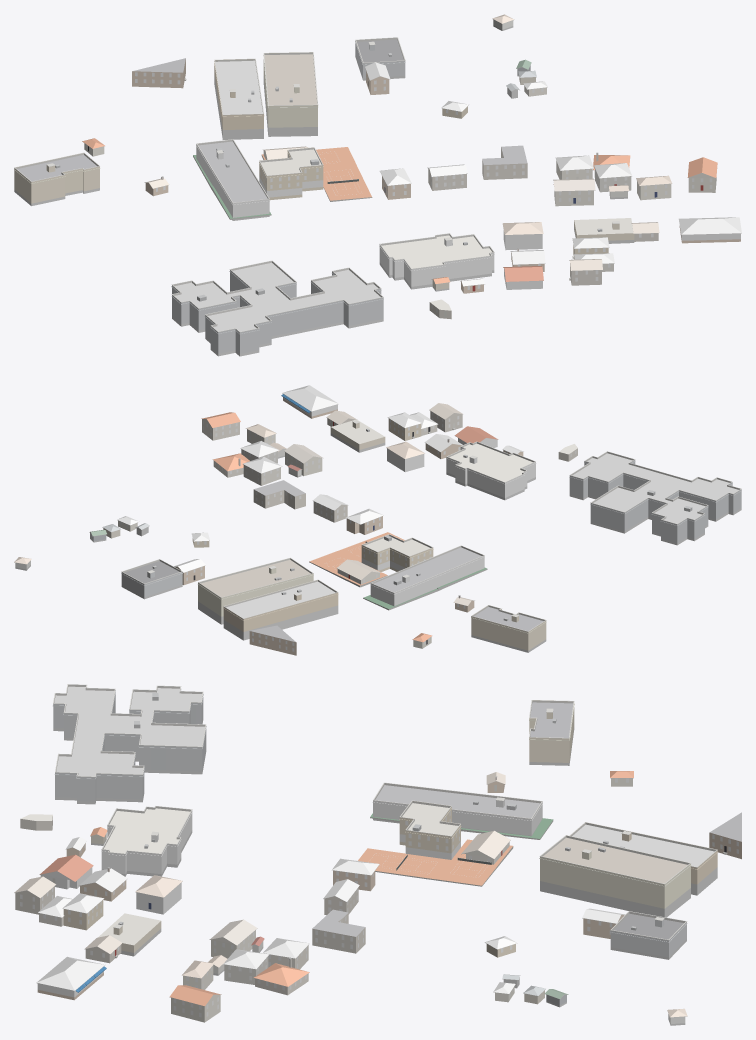
Rendered from bld_0_1.dae.
3 renders of one model, top to bottom at view 1: azimuth 30°, elevation 25°; view 2: azimuth 150°, elevation 25°; view 3: azimuth 270°, elevation 25°, orthographic. The views are drawn at different scales.
Parts seen in each view (by area): view 1: blda1911; view 2: blda1911; view 3: blda1911.
Boxes of the visible parts, box(x1,y1,x2,y2) form: blda1911: box(14, 14, 741, 356); blda1911: box(14, 385, 741, 655); blda1911: box(14, 684, 741, 1025).
Size of the model in its own units: 265 by 262 by 16.
